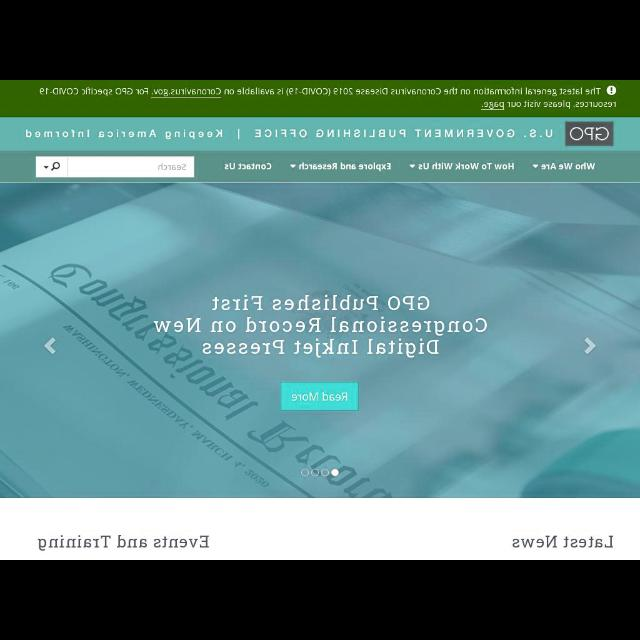backgroundimage: (1, 183, 640, 499)
icon: (583, 338, 597, 354), (44, 338, 56, 354), (606, 85, 618, 95), (50, 161, 60, 171), (408, 164, 416, 168), (532, 164, 538, 168), (290, 164, 296, 168), (44, 167, 48, 170)
iframe: (39, 85, 617, 111)
image: (565, 122, 613, 146)
input: (34, 156, 194, 178)
pageindicator: (300, 469, 338, 477)
spinner: (290, 162, 390, 172), (408, 163, 514, 171), (532, 162, 596, 170)
text: (153, 296, 487, 358), (25, 128, 552, 140), (39, 88, 600, 99), (38, 536, 208, 550), (480, 101, 616, 111), (512, 536, 614, 548), (298, 162, 390, 172), (418, 163, 514, 171), (291, 392, 347, 402), (540, 163, 596, 171), (224, 163, 272, 170), (158, 163, 186, 170)
textbutton: (281, 382, 359, 410)
toolbar: (1, 151, 640, 181)
